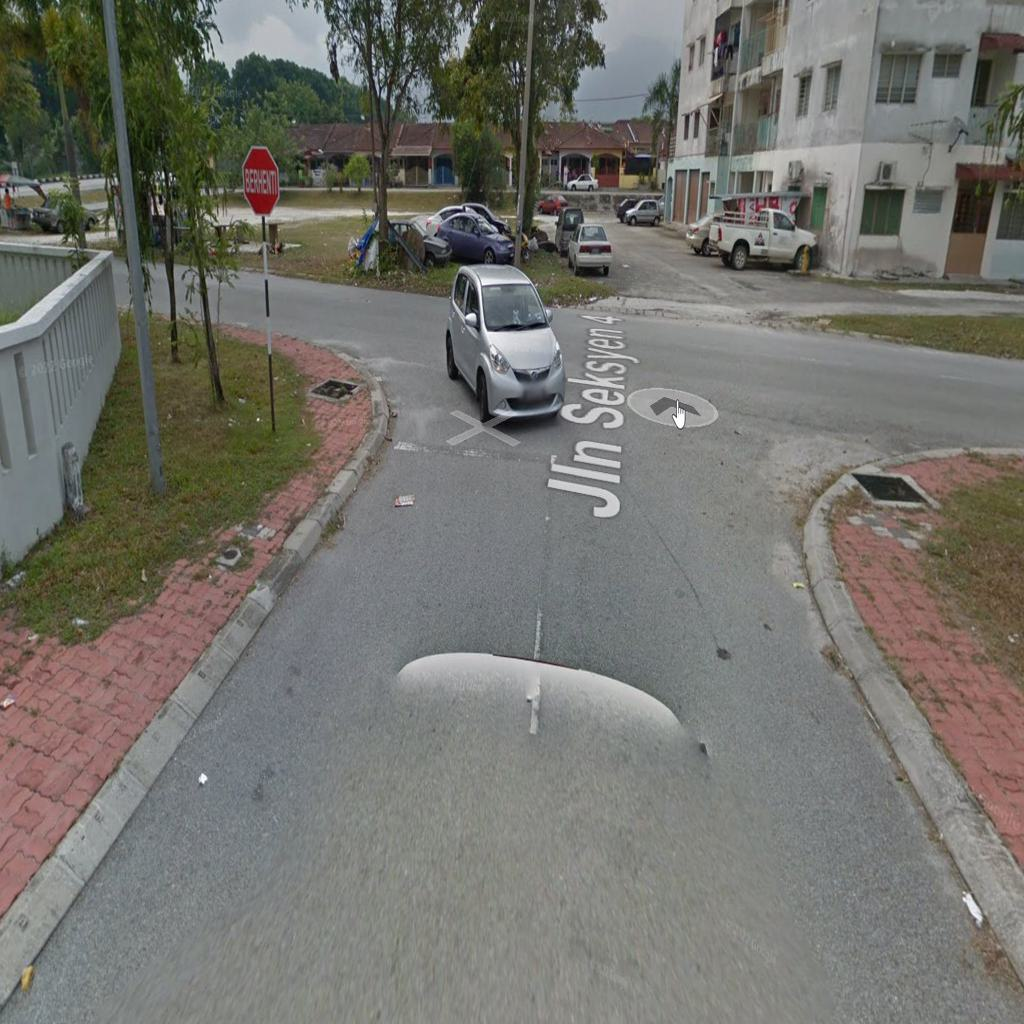Junction: (755, 319, 1020, 585), (205, 228, 421, 468)
